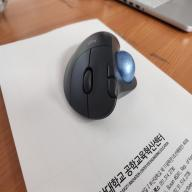mouse: (64, 30, 137, 120)
